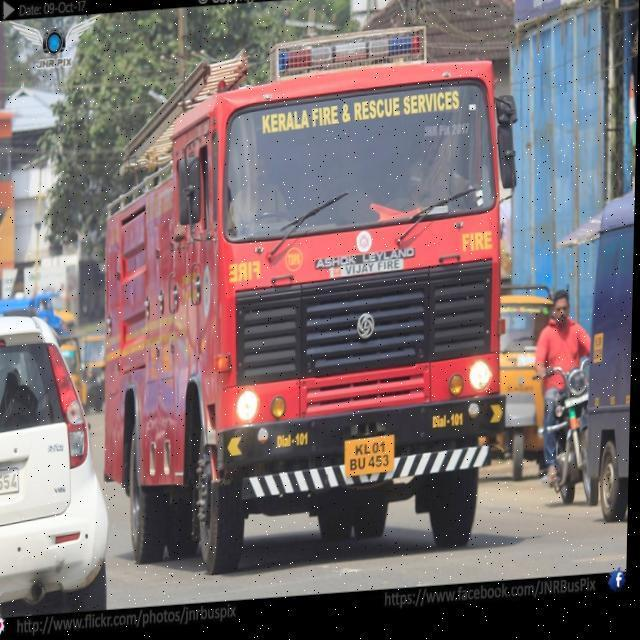Auto: (492, 290, 559, 492)
Fire-engine: (98, 26, 524, 590)
bike: (532, 296, 595, 498)
car: (0, 305, 117, 622)
